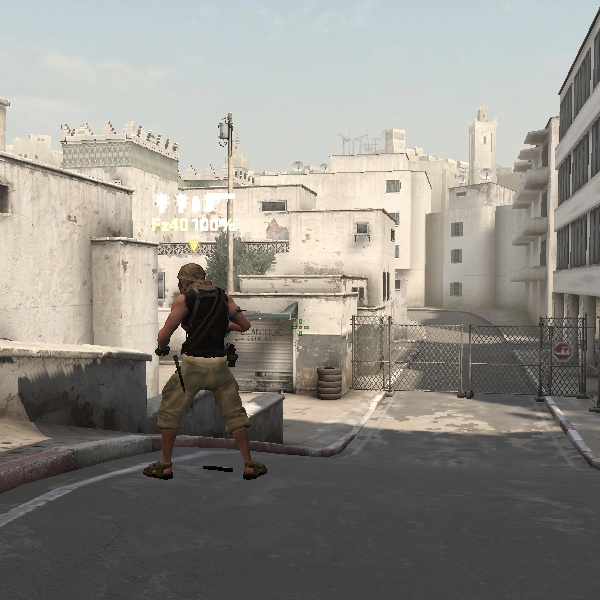t_body: (133, 250, 278, 487)
t_head: (171, 258, 218, 303)
